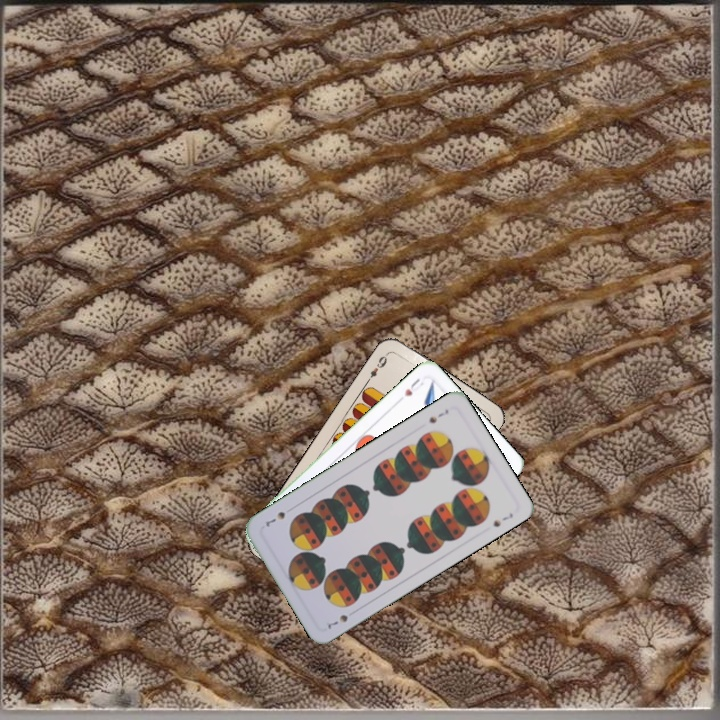E9: (363, 349, 391, 385)
HU: (400, 374, 426, 399)
S7: (323, 611, 351, 632), (425, 405, 451, 426)
